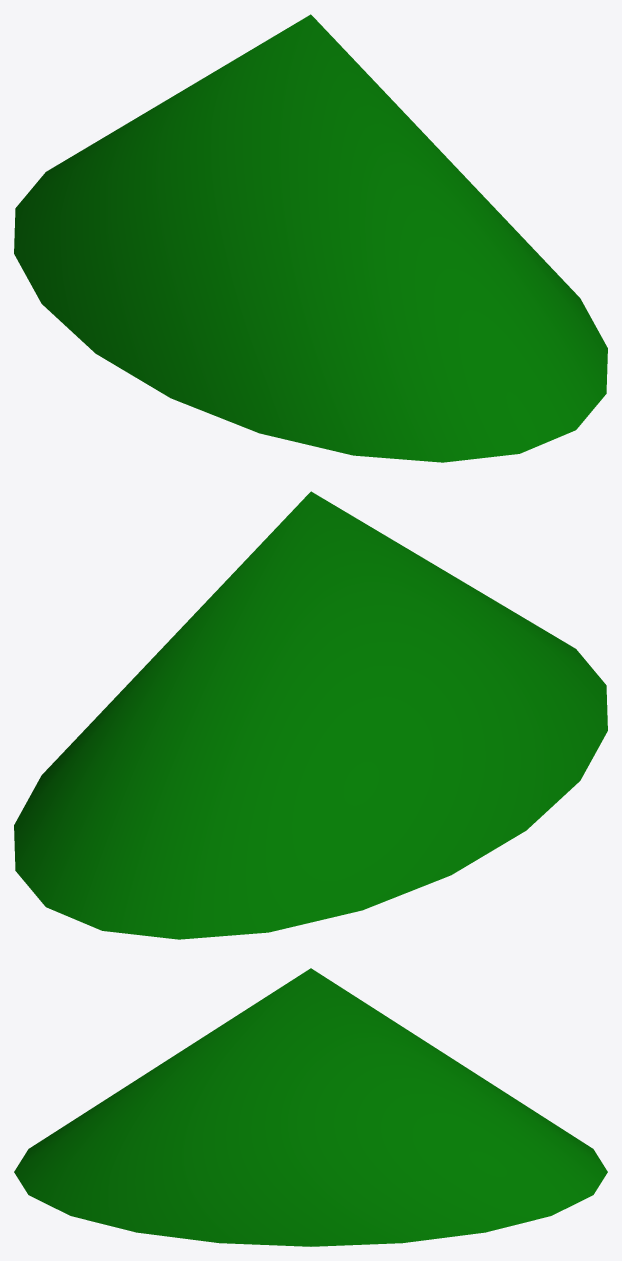
The model's file is Mountain Green .fbx.
The picture shows the model from 3 angles, top to bottom: view 1: azimuth 30°, elevation 25°; view 2: azimuth 150°, elevation 25°; view 3: azimuth 270°, elevation 25°; orthographic projection. The views are drawn at different scales.
Parts seen in each view (by area): view 1: polySurface16; view 2: polySurface16; view 3: polySurface16.
Part boxes in pixels (x1,y1,x2,y2): polySurface16: [14, 14, 607, 462]; polySurface16: [14, 491, 607, 939]; polySurface16: [14, 968, 607, 1246].
Bounding box in the file's own units: 7.95 × 5.06 × 13.35.
